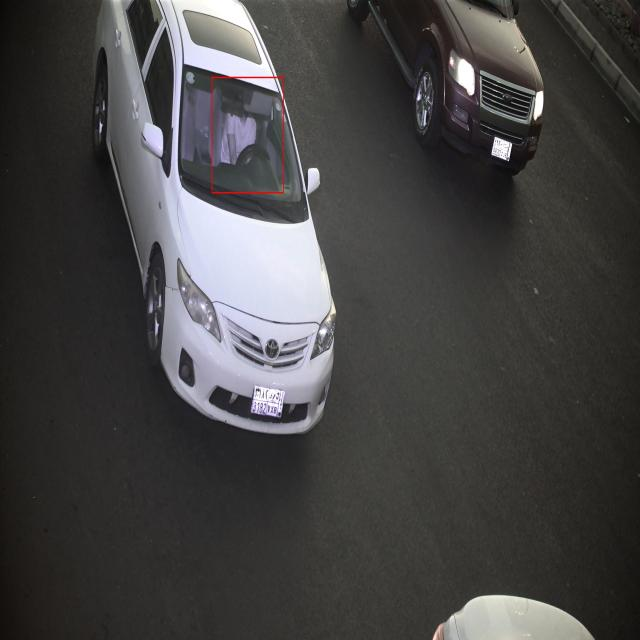windshield: (175, 62, 312, 230)
